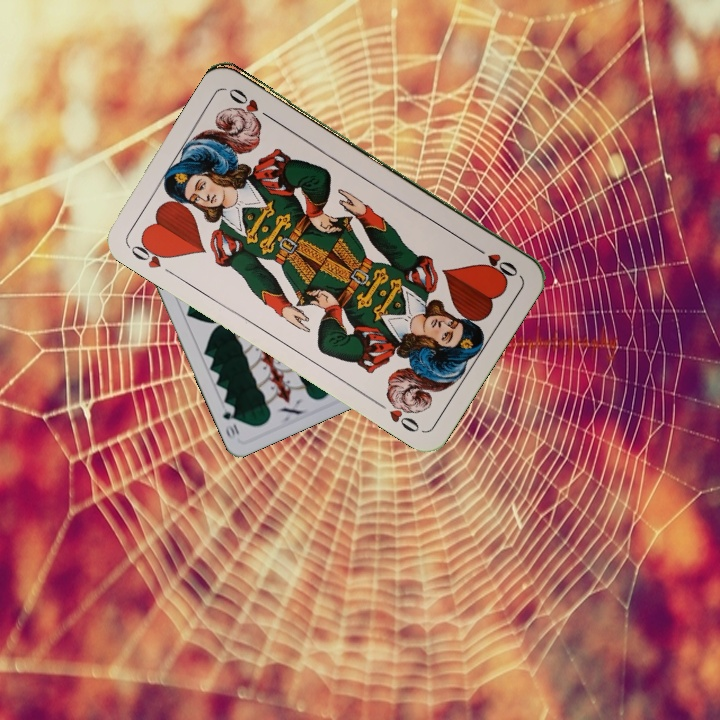HO: (468, 241, 521, 280), (124, 234, 174, 272)
